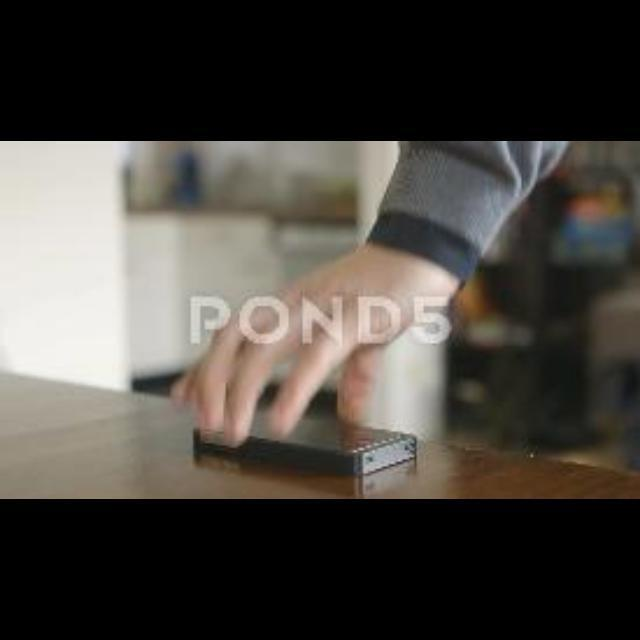phone: (190, 367, 434, 487)
